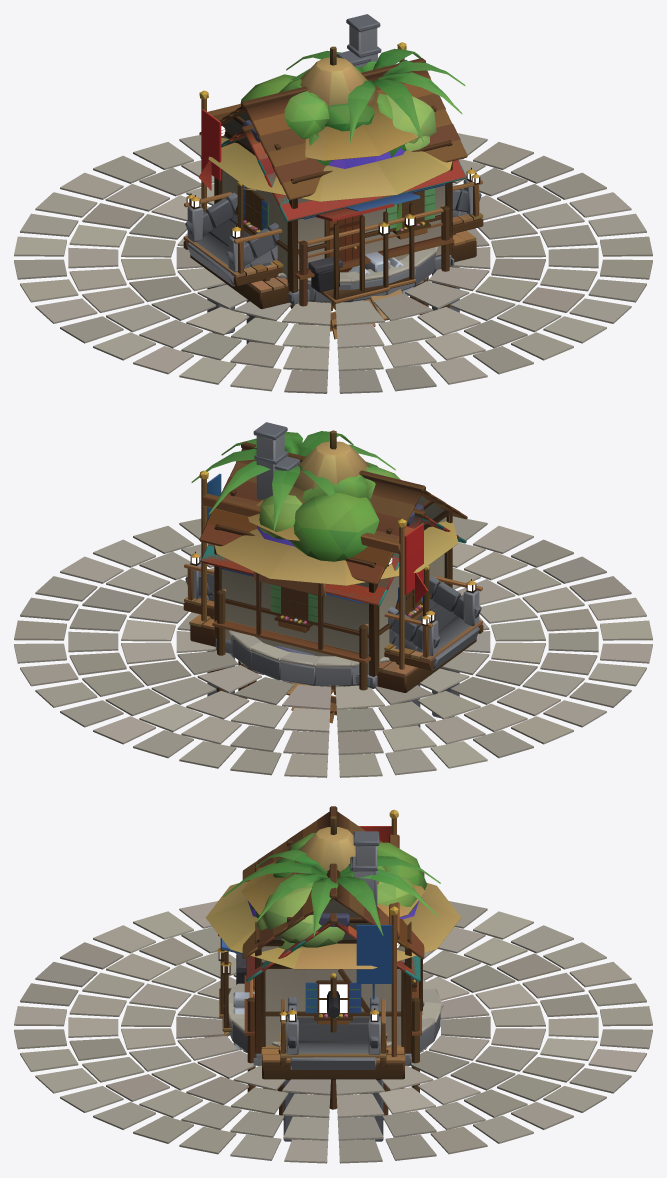
File: props.glb
The picture shows the model from 3 angles, top to bottom: view 1: azimuth 30°, elevation 25°; view 2: azimuth 150°, elevation 25°; view 3: azimuth 270°, elevation 25°; orthographic projection.
Visible parts, largest first — view 1: plaza_disc, mill_house, beach_hut, cottage_a, stone_bridge, tourney_stage, tree_palm, tree_round_b, home_plot, bridge_wood, fountain, cottage_b (+4 smaller); view 2: plaza_disc, mill_house, beach_hut, tourney_stage, tree_round_b, stone_bridge, fountain, home_plot, tree_palm, cottage_a, bridge_wood, tree_willow (+1 smaller); view 3: plaza_disc, mill_house, beach_hut, tourney_stage, stone_bridge, cottage_a, tree_palm, tree_willow, home_plot, fountain, bridge_wood, tree_round_b (+2 smaller).
Part boxes in pixels (x1=…): plaza_disc: x1=14, y1=133, x2=652, y2=393; mill_house: x1=199, y1=14, x2=467, y2=304; beach_hut: x1=208, y1=46, x2=452, y2=320; cottage_a: x1=217, y1=44, x2=465, y2=303; stone_bridge: x1=185, y1=167, x2=481, y2=343; tourney_stage: x1=190, y1=42, x2=476, y2=308; tree_palm: x1=286, y1=48, x2=465, y2=143; tree_round_b: x1=240, y1=74, x2=393, y2=165; home_plot: x1=295, y1=205, x2=454, y2=347; bridge_wood: x1=183, y1=173, x2=483, y2=343; fountain: x1=277, y1=246, x2=438, y2=301; cottage_b: x1=303, y1=50, x2=445, y2=291; plaza_disc: x1=14, y1=516, x2=652, y2=777; mill_house: x1=199, y1=422, x2=467, y2=688; beach_hut: x1=214, y1=430, x2=458, y2=585; tourney_stage: x1=189, y1=470, x2=476, y2=692; tree_round_b: x1=288, y1=461, x2=400, y2=561; stone_bridge: x1=185, y1=551, x2=481, y2=727; fountain: x1=228, y1=630, x2=389, y2=685; home_plot: x1=212, y1=572, x2=370, y2=731; tree_palm: x1=191, y1=431, x2=395, y2=531; cottage_a: x1=201, y1=451, x2=458, y2=686; bridge_wood: x1=183, y1=563, x2=483, y2=703; tree_willow: x1=259, y1=495, x2=302, y2=539; plaza_disc: x1=14, y1=901, x2=652, y2=1163; mill_house: x1=242, y1=806, x2=424, y2=1065; beach_hut: x1=204, y1=816, x2=461, y2=1037; tourney_stage: x1=261, y1=809, x2=405, y2=1079; stone_bridge: x1=283, y1=997, x2=383, y2=1141; cottage_a: x1=217, y1=856, x2=420, y2=1065; tree_palm: x1=223, y1=849, x2=440, y2=937; tree_willow: x1=253, y1=872, x2=416, y2=984; home_plot: x1=244, y1=958, x2=422, y2=1109; fountain: x1=223, y1=979, x2=443, y2=1056; bridge_wood: x1=278, y1=999, x2=388, y2=1120; tree_round_b: x1=273, y1=833, x2=426, y2=889.
Bounding box in the file's own units: 17.9 × 8.84 × 17.9.
